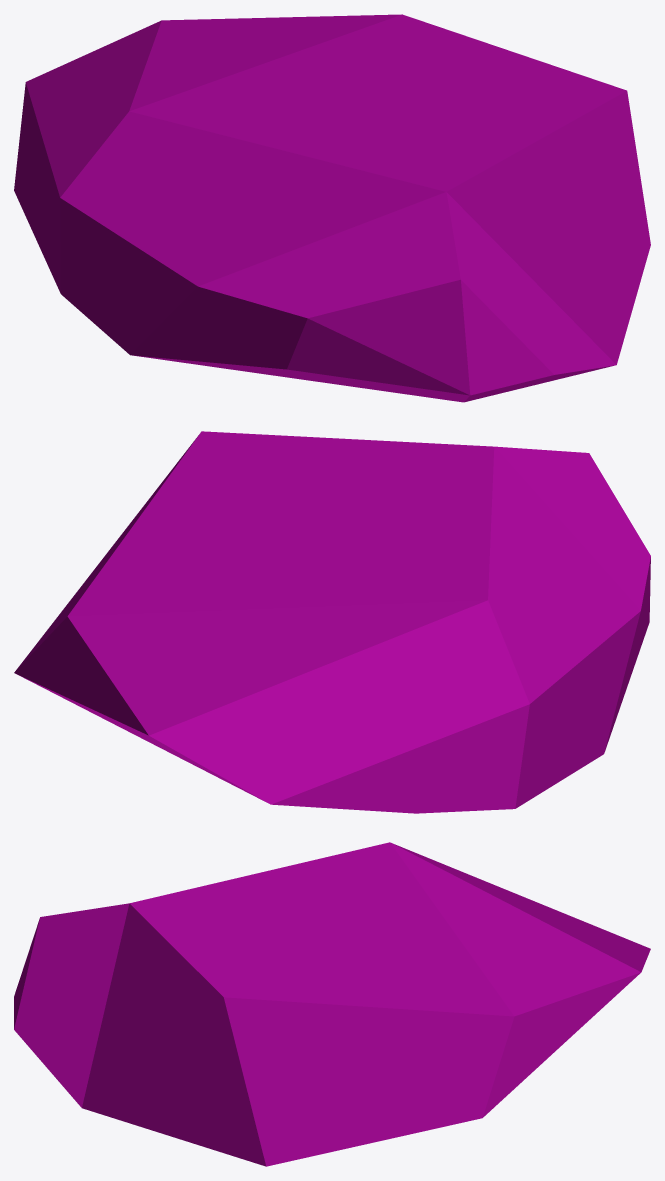
File: Collider_Small_Rock_001.fbx
The picture shows the model from 3 angles, top to bottom: view 1: azimuth 30°, elevation 25°; view 2: azimuth 150°, elevation 25°; view 3: azimuth 270°, elevation 25°; orthographic projection. The views are drawn at different scales.
Parts seen in each view (by area): view 1: Collider_Small_Rocks_001; view 2: Collider_Small_Rocks_001; view 3: Collider_Small_Rocks_001.
Boxes of the visible parts, bbox=[...] form: Collider_Small_Rocks_001: bbox=[14, 14, 650, 402]; Collider_Small_Rocks_001: bbox=[14, 431, 650, 813]; Collider_Small_Rocks_001: bbox=[14, 842, 650, 1166].
Bounding box in the file's own units: 0.6126 × 0.2162 × 0.8339.
